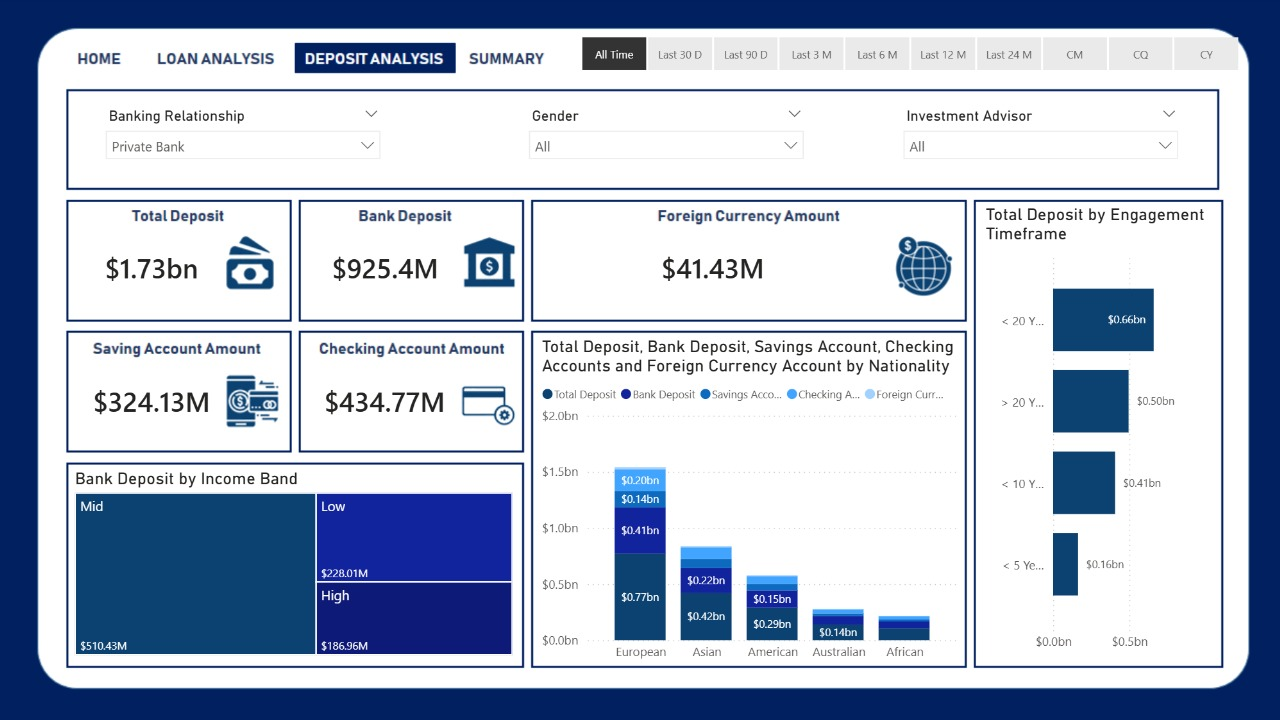

The dashboard page shown, as its layout file describes it:
{"tool":"powerbi","page":{"name":"Deposit Analysis","canvas":[1280,720],"ordinal":2},"visuals":[{"type":"card","fields":{"Values":["DAX Measures.Total Deposit"]},"box":[72.7,226.3,161.8,90.3],"z":0},{"type":"card","fields":{"Values":["DAX Measures.Bank Deposit"]},"box":[299,226.3,172.4,89.1],"z":1000},{"type":"card","fields":{"Values":["DAX Measures.Savings Account"]},"box":[72.7,360,161.8,89.1],"z":2000},{"type":"card","fields":{"Values":["DAX Measures.Checking Accounts"]},"box":[300.2,360,171.2,89.1],"z":3000},{"type":"slicer","fields":{"Values":["Banking Relationship.Banking Relationship"]},"box":[98.5,105.2,292.9,75.7],"z":4000},{"type":"slicer","fields":{"Values":["Gender.Gender"]},"box":[518.9,105.2,292.9,75.7],"z":5000},{"type":"slicer","fields":{"Values":["Investment Advisor.Investment Advisor"]},"box":[891.3,105.2,292.9,75.7],"z":6000},{"type":"card","fields":{"Values":["DAX Measures.Foreign Currency Account"]},"box":[537.1,227.5,349.4,89.1],"z":7000},{"type":"treemap","fields":{"Group":["Clients - Banking.Income Band"],"Values":["DAX Measures.Bank Deposit"]},"box":[72.7,470.2,444.4,190],"z":8000},{"type":"columnChart","fields":{"Category":["Clients - Banking.Nationality"],"Y":["DAX Measures.Total Deposit","DAX Measures.Bank Deposit","DAX Measures.Savings Account","DAX Measures.Checking Accounts","DAX Measures.Foreign Currency Account"]},"box":[537.1,338.9,423.3,331.9],"z":9000},{"type":"clusteredBarChart","fields":{"Category":["Clients - Banking.Engagement Timeframe"],"Y":["DAX Measures.Total Deposit"]},"box":[978,207.6,234.5,452.6],"z":10000},{"type":"slicer","fields":{"Values":["Period.Name"]},"box":[555.2,34.6,702.1,46.6],"z":11000},{"type":"actionButton","box":[72.8,44.2,58.5,31],"z":12000},{"type":"actionButton","box":[160,44.2,119.4,31],"z":13000},{"type":"actionButton","box":[471.6,44.2,83.6,31],"z":14000}]}

Visuals, with their boxes in screenshot pixels (x1, y1, x2, y2), scaled from the page's 1280x720 canvas onto the 1280x720 screenshot:
card - DAX Measures.Total Deposit: crop(73, 226, 234, 317)
card - DAX Measures.Bank Deposit: crop(299, 226, 471, 315)
card - DAX Measures.Savings Account: crop(73, 360, 234, 449)
card - DAX Measures.Checking Accounts: crop(300, 360, 471, 449)
slicer - Banking Relationship.Banking Relationship: crop(98, 105, 391, 181)
slicer - Gender.Gender: crop(519, 105, 812, 181)
slicer - Investment Advisor.Investment Advisor: crop(891, 105, 1184, 181)
card - DAX Measures.Foreign Currency Account: crop(537, 228, 886, 317)
treemap - Clients - Banking.Income Band x DAX Measures.Bank Deposit: crop(73, 470, 517, 660)
columnChart - Clients - Banking.Nationality x DAX Measures.Total Deposit: crop(537, 339, 960, 671)
clusteredBarChart - Clients - Banking.Engagement Timeframe x DAX Measures.Total Deposit: crop(978, 208, 1212, 660)
slicer - Period.Name: crop(555, 35, 1257, 81)
actionButton: crop(73, 44, 131, 75)
actionButton: crop(160, 44, 279, 75)
actionButton: crop(472, 44, 555, 75)
